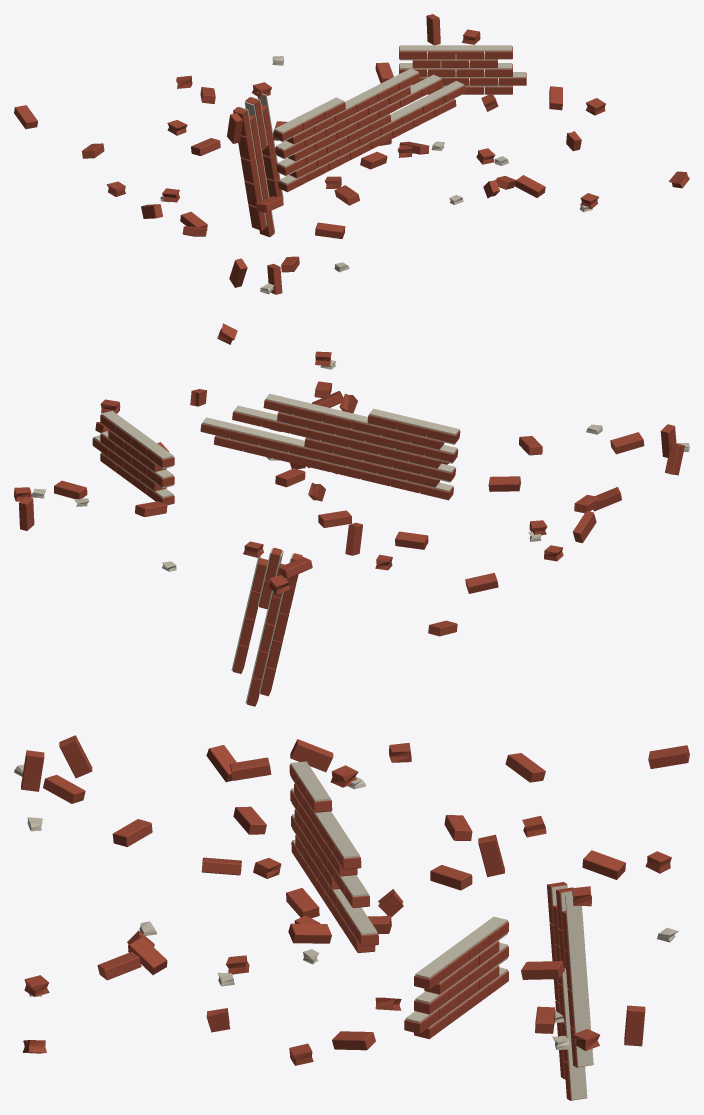
Rendered from DESTROY_13.obj.
The picture shows the model from 3 angles, top to bottom: view 1: azimuth 30°, elevation 25°; view 2: azimuth 150°, elevation 25°; view 3: azimuth 270°, elevation 25°; orthographic projection. The views are drawn at different scales.
Parts seen in each view (by area): view 1: DESTROY_13__loose_bricks, DESTROY_13__wall_A_bricks, DESTROY_13__wall_A_mortar_bed, DESTROY_13__wall_C_tilted_bricks, DESTROY_13__wall_B_bricks, DESTROY_13__wall_B_mortar_bed, DESTROY_13__mortar_crumbs, DESTROY_13__wall_C_tilted_mortar_bed; view 2: DESTROY_13__wall_A_bricks, DESTROY_13__loose_bricks, DESTROY_13__wall_A_mortar_bed, DESTROY_13__wall_C_tilted_bricks, DESTROY_13__wall_B_bricks, DESTROY_13__wall_B_mortar_bed, DESTROY_13__wall_C_tilted_mortar_bed, DESTROY_13__mortar_crumbs; view 3: DESTROY_13__loose_bricks, DESTROY_13__wall_A_bricks, DESTROY_13__wall_B_bricks, DESTROY_13__wall_C_tilted_mortar_bed, DESTROY_13__wall_A_mortar_bed, DESTROY_13__wall_C_tilted_bricks, DESTROY_13__wall_B_mortar_bed, DESTROY_13__mortar_crumbs.
Boxes of the visible parts, left/top/right/bottom form: DESTROY_13__loose_bricks: left=14, top=14, right=689, bottom=294; DESTROY_13__wall_A_bricks: left=273, top=73, right=465, bottom=192; DESTROY_13__wall_A_mortar_bed: left=274, top=68, right=464, bottom=184; DESTROY_13__wall_C_tilted_bricks: left=233, top=97, right=282, bottom=237; DESTROY_13__wall_B_bricks: left=399, top=46, right=526, bottom=94; DESTROY_13__wall_B_mortar_bed: left=399, top=45, right=525, bottom=86; DESTROY_13__mortar_crumbs: left=160, top=45, right=593, bottom=294; DESTROY_13__wall_C_tilted_mortar_bed: left=239, top=92, right=283, bottom=232; DESTROY_13__wall_A_bricks: left=200, top=400, right=460, bottom=500; DESTROY_13__loose_bricks: left=14, top=323, right=684, bottom=636; DESTROY_13__wall_A_mortar_bed: left=202, top=393, right=459, bottom=491; DESTROY_13__wall_C_tilted_bricks: left=233, top=547, right=302, bottom=706; DESTROY_13__wall_B_bricks: left=92, top=414, right=174, bottom=505; DESTROY_13__wall_B_mortar_bed: left=93, top=410, right=173, bottom=497; DESTROY_13__wall_C_tilted_mortar_bed: left=231, top=548, right=293, bottom=703; DESTROY_13__mortar_crumbs: left=31, top=360, right=689, bottom=571; DESTROY_13__loose_bricks: left=21, top=735, right=689, bottom=1065; DESTROY_13__wall_A_bricks: left=289, top=764, right=378, bottom=953; DESTROY_13__wall_B_bricks: left=404, top=921, right=508, bottom=1039; DESTROY_13__wall_C_tilted_mortar_bed: left=551, top=885, right=593, bottom=1100; DESTROY_13__wall_A_mortar_bed: left=290, top=761, right=377, bottom=941; DESTROY_13__wall_C_tilted_bricks: left=547, top=882, right=593, bottom=1100; DESTROY_13__wall_B_mortar_bed: left=405, top=916, right=507, bottom=1028; DESTROY_13__mortar_crumbs: left=14, top=764, right=678, bottom=1049.
Size of the model in its own units: 4.06 by 1.75 by 3.72.
